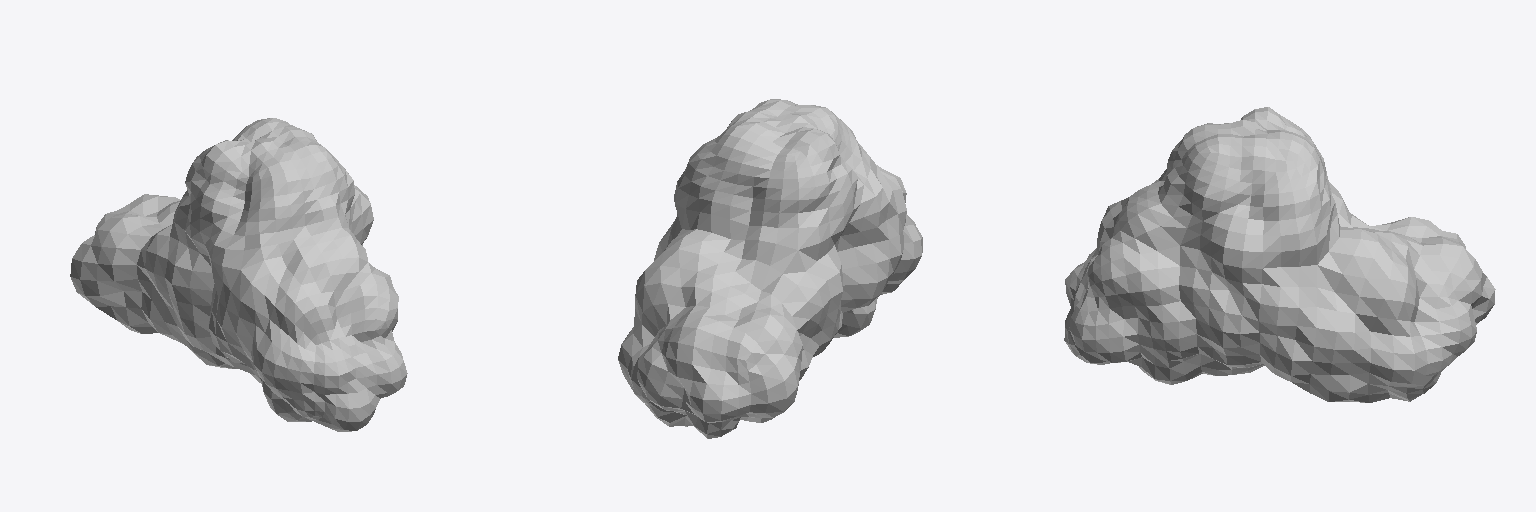
Rendered from cloud1.obj.
3 renders of one model, left to right at view 1: azimuth 30°, elevation 25°; view 2: azimuth 150°, elevation 25°; view 3: azimuth 270°, elevation 25°, orthographic.
Visible parts, largest first — view 1: Cube.001; view 2: Cube.001; view 3: Cube.001.
Boxes of the visible parts, x1=… form: Cube.001: x1=70, y1=118, x2=407, y2=431; Cube.001: x1=618, y1=99, x2=922, y2=438; Cube.001: x1=1064, y1=107, x2=1495, y2=402.
Size of the model in its own units: 3.7 by 4.47 by 6.7.